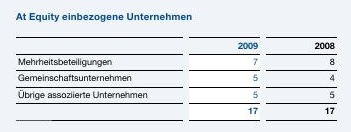table: (0, 0, 351, 132)
